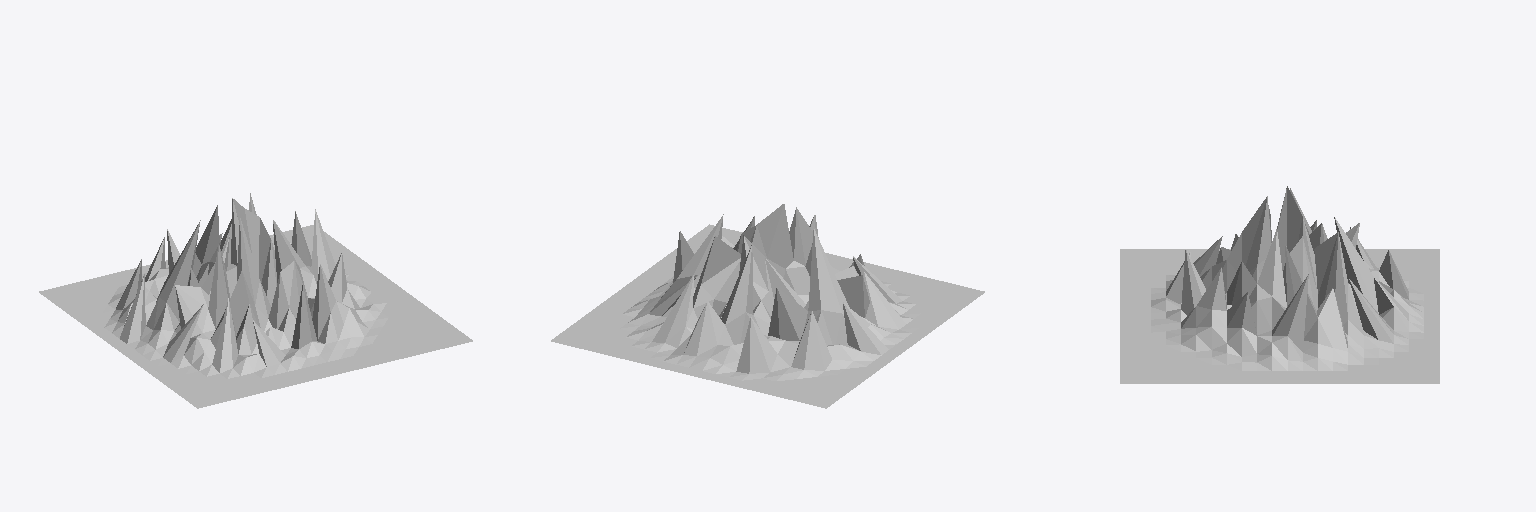
Rendered from spikes.obj.
3 renders of one model, left to right at view 1: azimuth 30°, elevation 25°; view 2: azimuth 150°, elevation 25°; view 3: azimuth 270°, elevation 25°, orthographic.
Parts seen in each view (by area): view 1: Plane; view 2: Plane; view 3: Plane.
Part boxes in pixels (bbox=[...]): Plane: bbox=[39, 193, 472, 408]; Plane: bbox=[551, 204, 984, 408]; Plane: bbox=[1120, 186, 1439, 383].
Size of the model in its own units: 16.05 by 6.72 by 16.05.